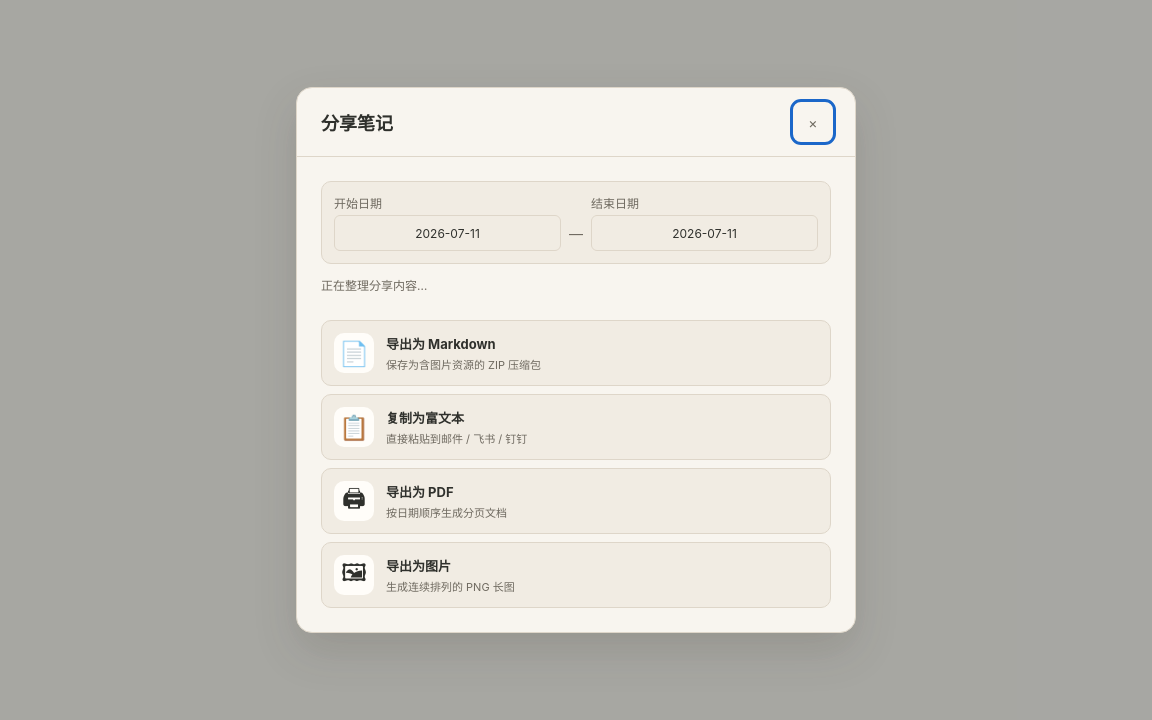
ShareModal PDF export › ignores an older range response that resolves after the latest selection
Click the button named "分享开始日期".
click(448, 233)  # box [334,215,561,251]
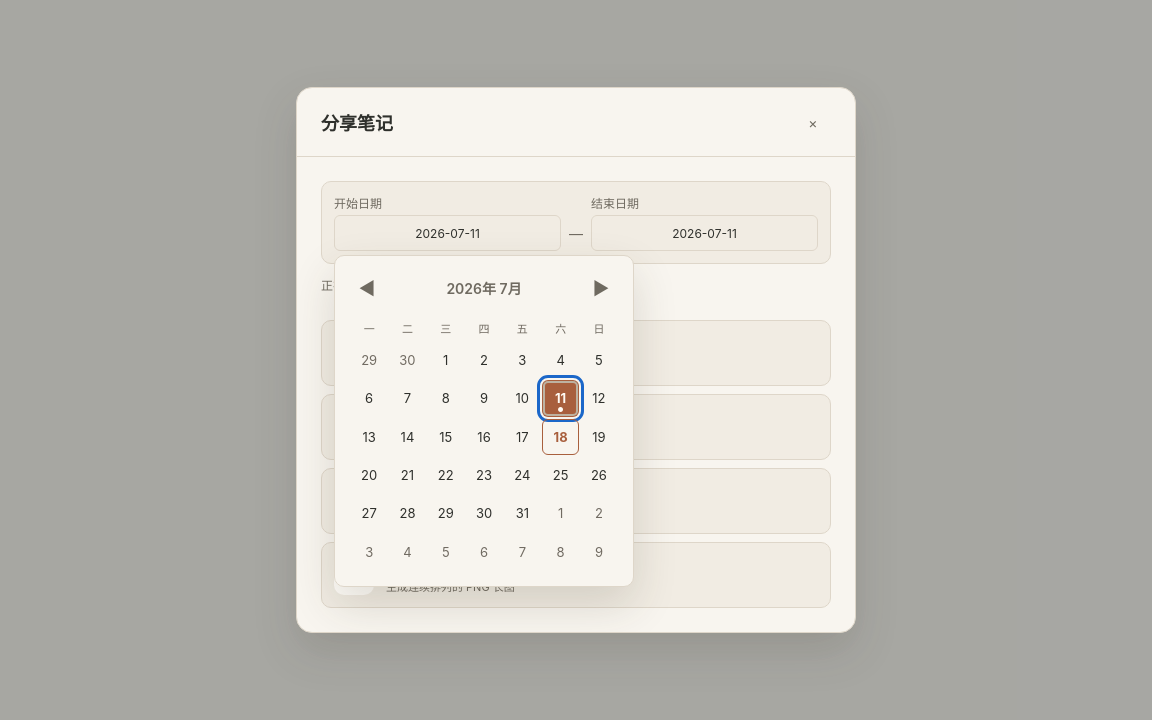
Click the cell named "2026-07-09".
click(484, 398)  # box [466,380,502,417]
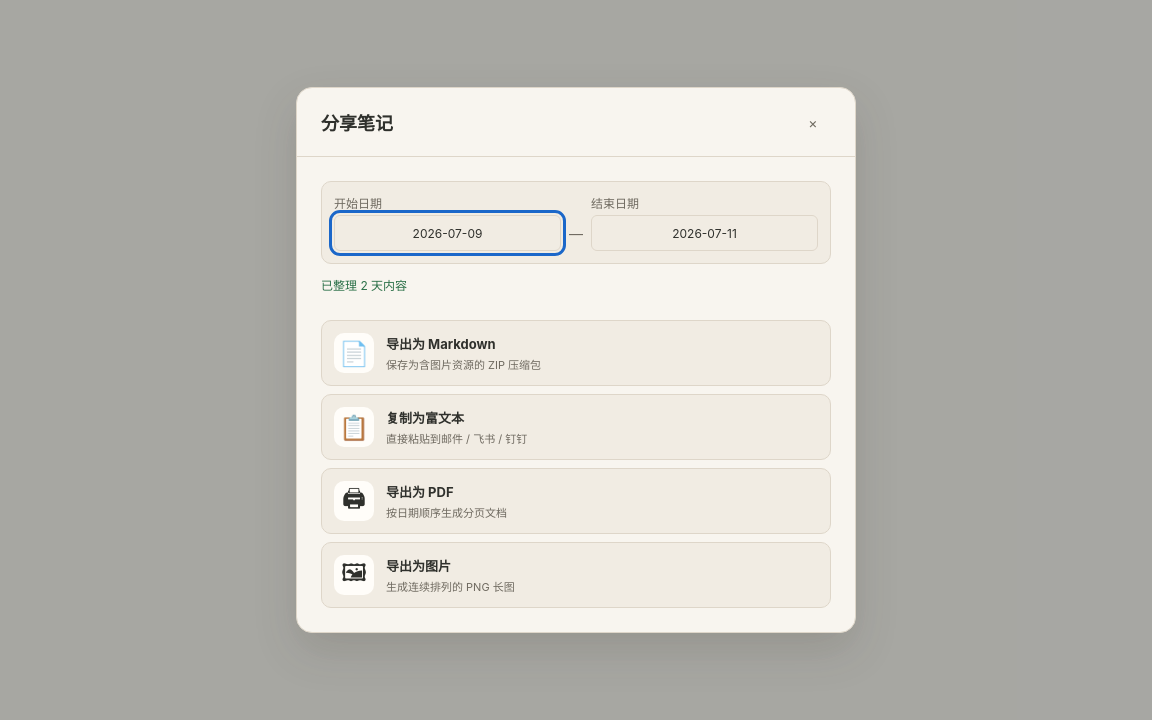
expect the text "已整理 2 天内容" is shown: met, box [321,276,407,293]
